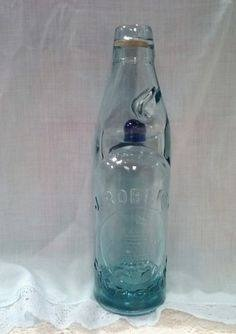Rec_Glass: (93, 20, 167, 313)
